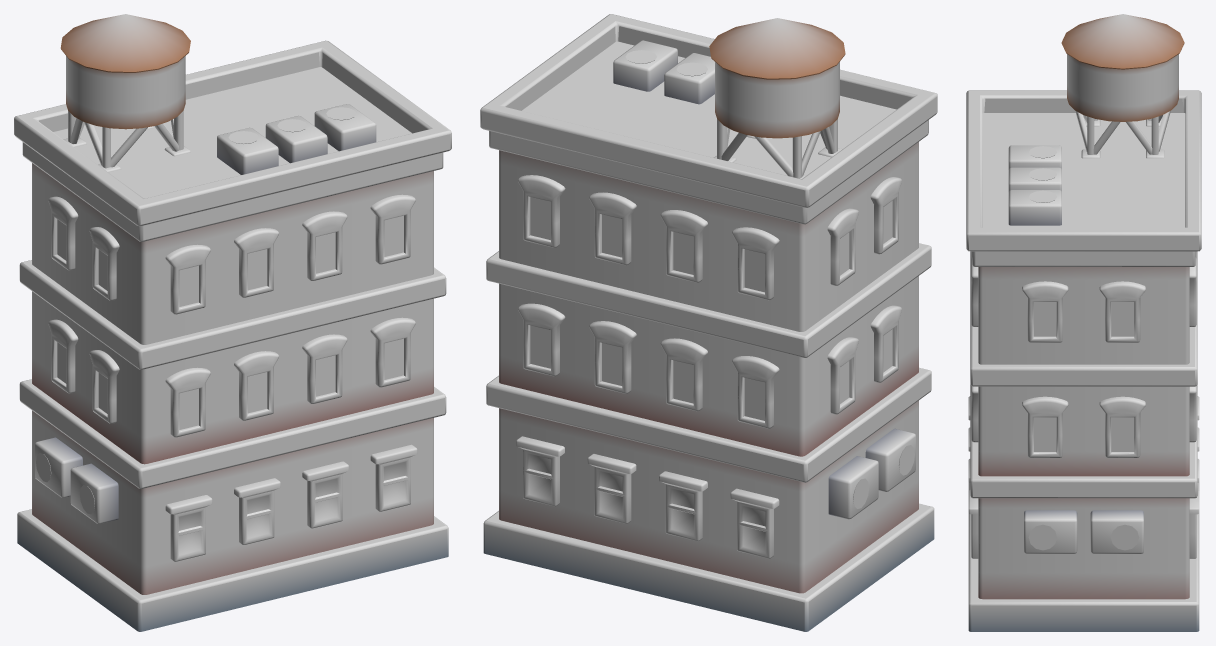
File: NF_Bld_Apartment 12.fbx
3 views of the same model, side by side, from view 1: azimuth 30°, elevation 25°; view 2: azimuth 150°, elevation 25°; view 3: azimuth 270°, elevation 25° (orthographic). The views are drawn at different scales.
Visible parts, largest first — view 1: Apart_12; view 2: Apart_12; view 3: Apart_12.
Boxes of the visible parts, bbox=[...] form: Apart_12: bbox=[14, 14, 451, 631]; Apart_12: bbox=[480, 14, 937, 631]; Apart_12: bbox=[966, 14, 1201, 631].
Bounding box in the file's own units: 10.3 × 15.9 × 6.67.
